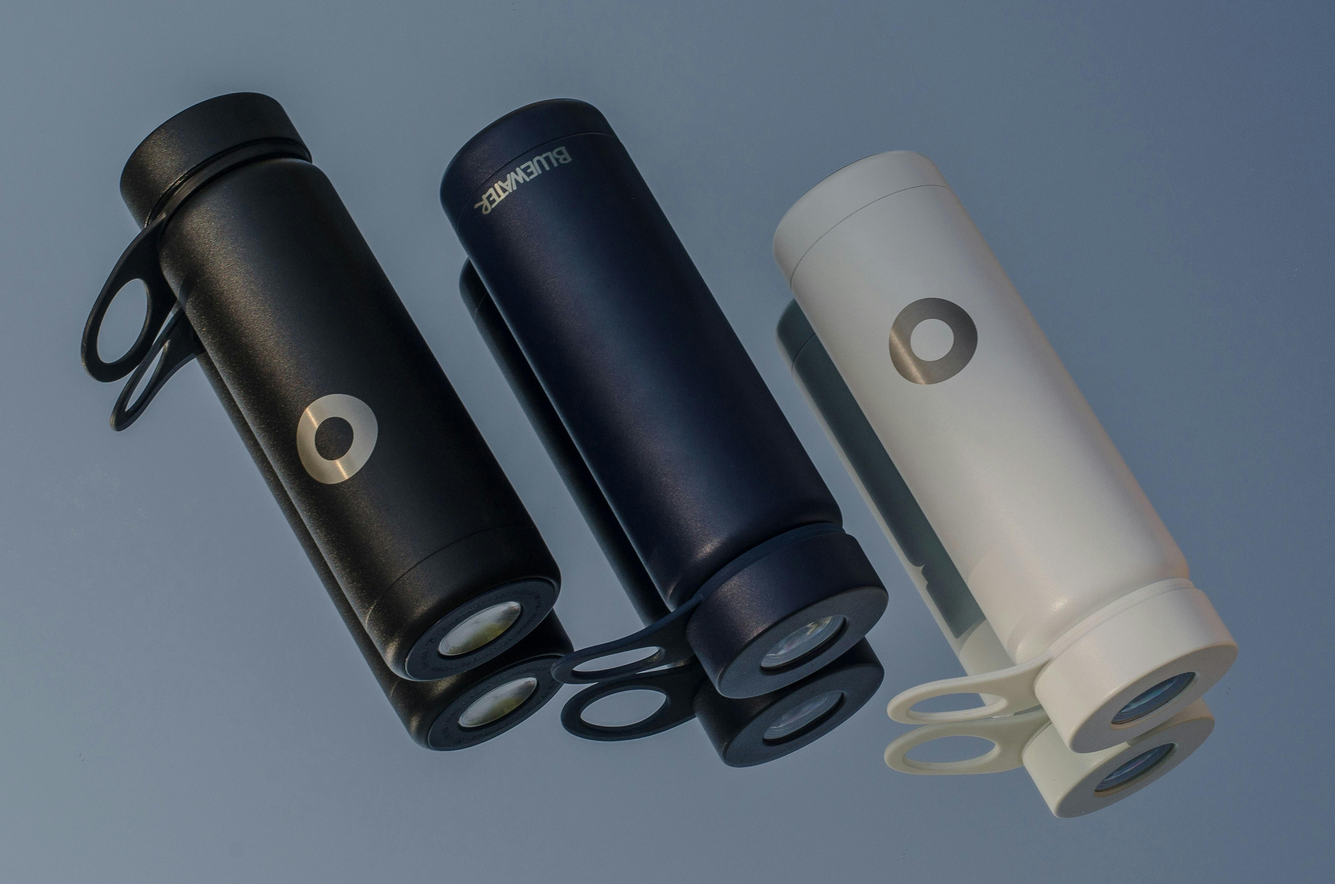Bottle-Detection: (67, 70, 600, 770), (747, 129, 1277, 756), (427, 86, 912, 735)
